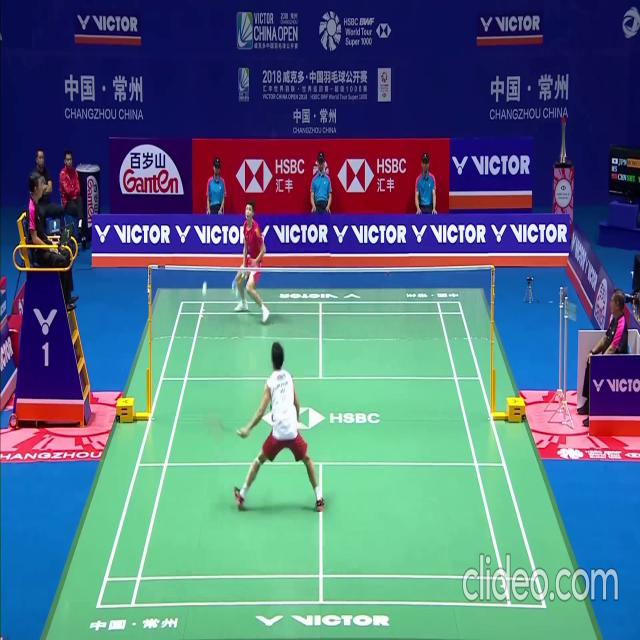Shuttlecock: (202, 288, 206, 296)
